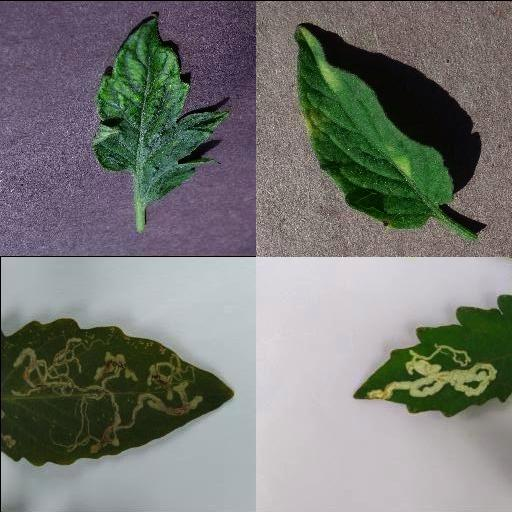Leaf Miner: (3, 316, 235, 468), (353, 294, 512, 418)
Leaf Mold: (294, 23, 454, 227)
Mosaic Virus: (91, 10, 229, 204)
